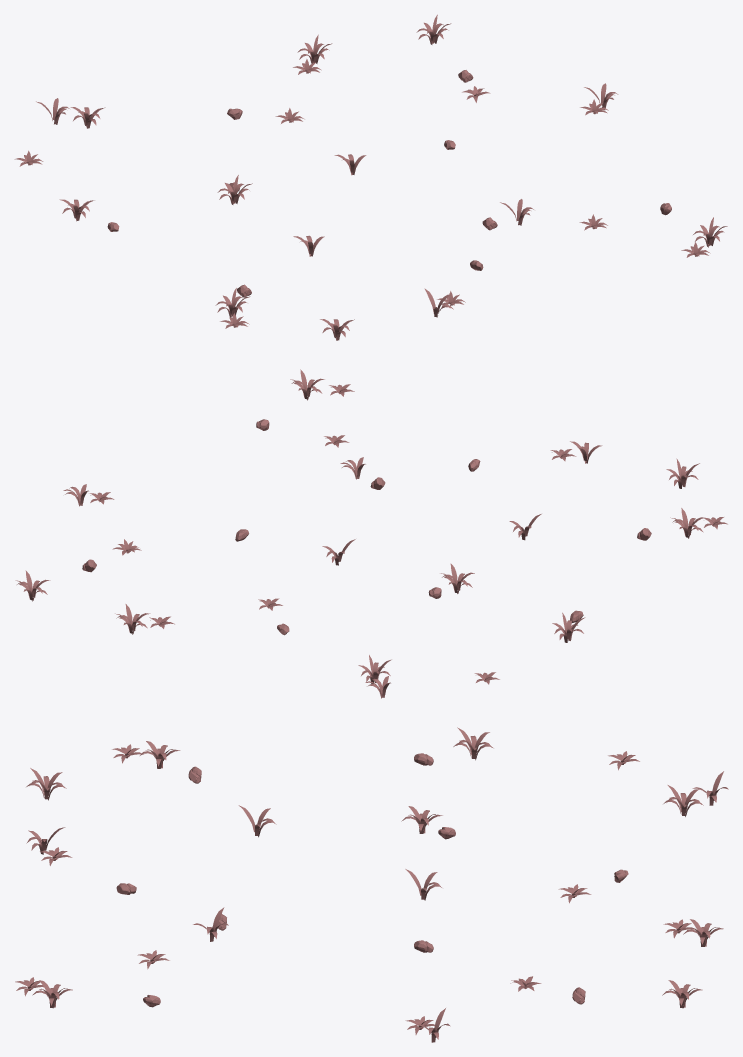
The model's file is MemoRoute_Grass.fbx.
The picture shows the model from 3 angles, top to bottom: view 1: azimuth 30°, elevation 25°; view 2: azimuth 150°, elevation 25°; view 3: azimuth 270°, elevation 25°; orthographic projection. The views are drawn at different scales.
Visible parts, largest first — view 1: MemoRoute_Grass; view 2: MemoRoute_Grass; view 3: MemoRoute_Grass.
Part boxes in pixels (bbox=[...]): MemoRoute_Grass: bbox=[14, 14, 727, 340]; MemoRoute_Grass: bbox=[15, 369, 727, 698]; MemoRoute_Grass: bbox=[15, 727, 728, 1042].
Size of the model in its own units: 53.2 by 2.24 by 53.64.
